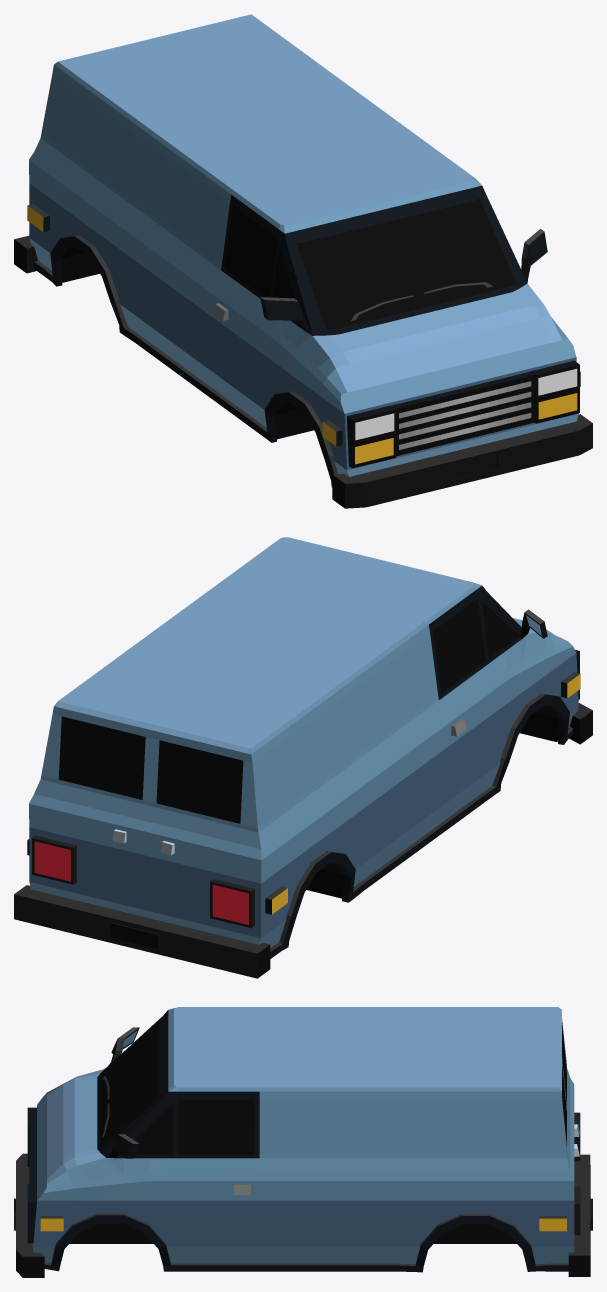
The model's file is Van.003.fbx.
3 views of the same model, one above another, from view 1: azimuth 30°, elevation 25°; view 2: azimuth 150°, elevation 25°; view 3: azimuth 270°, elevation 25° (orthographic). The views are drawn at different scales.
Visible parts, largest first — view 1: Van.003; view 2: Van.003; view 3: Van.003.
Boxes of the visible parts, x1,y1,x2,y2 form: Van.003: (14,14,592,508); Van.003: (14,537,592,978); Van.003: (14,1007,592,1277).
Size of the model in its own units: 1.92 by 1.38 by 4.03.
